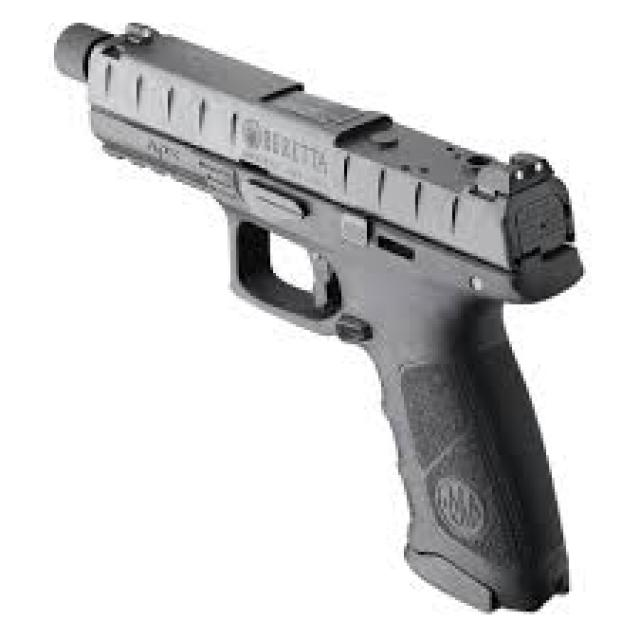pistol: (42, 11, 590, 624)
